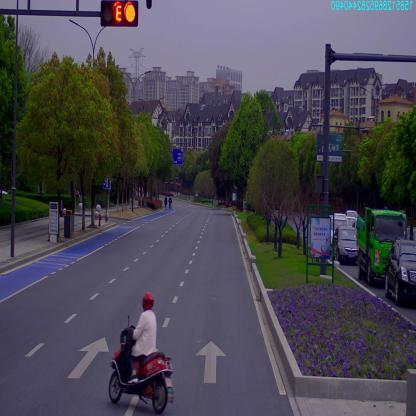traffic-light: (101, 5, 138, 28)
